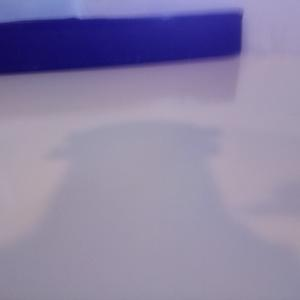zone: (1, 10, 242, 75)
